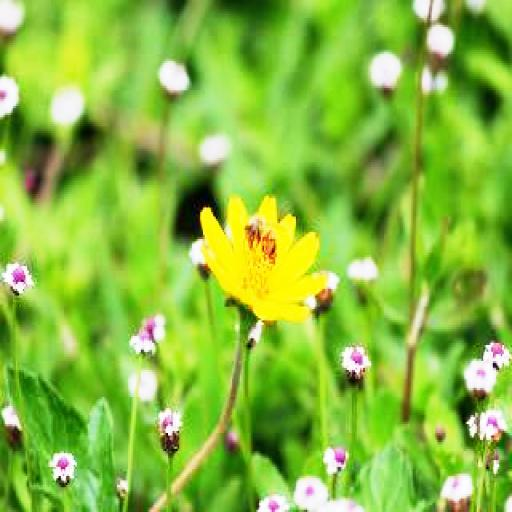dandelion: (195, 196, 323, 325)
